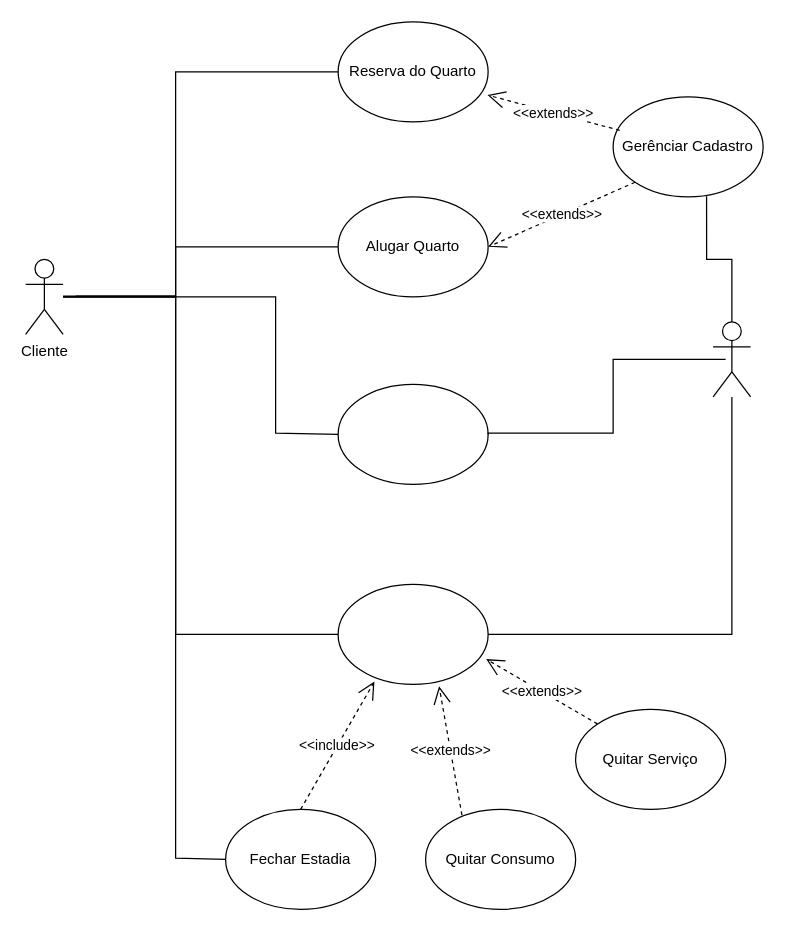
The diagram is 793 pixels wide and 931 high, and some of its shapes have lost their labels. Each missing label, with the centre of its shape:
Funcionário: pixel 731 359
Pedir Serviço: pixel 412 433
Quitar Diárias: pixel 412 633
